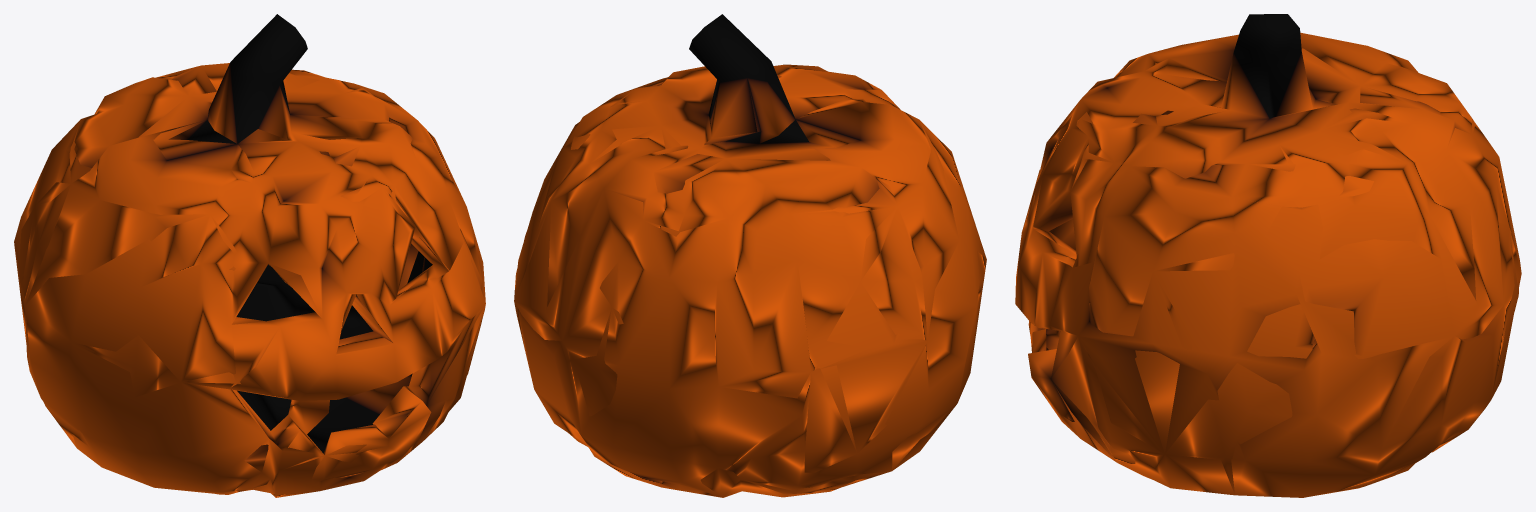
Rendered from gen3d-jack-o-lantern-lod1.glb.
3 views of the same model, side by side, from view 1: azimuth 30°, elevation 25°; view 2: azimuth 150°, elevation 25°; view 3: azimuth 270°, elevation 25° (orthographic). The views are drawn at different scales.
Visible parts, largest first — view 1: part_0; view 2: part_0; view 3: part_0.
Part boxes in pixels (x1,y1,x2,y2): part_0: (14,14,485,497); part_0: (514,14,986,497); part_0: (1015,14,1521,497).
Size of the model in its own units: 1.04 by 0.998 by 1.05.
